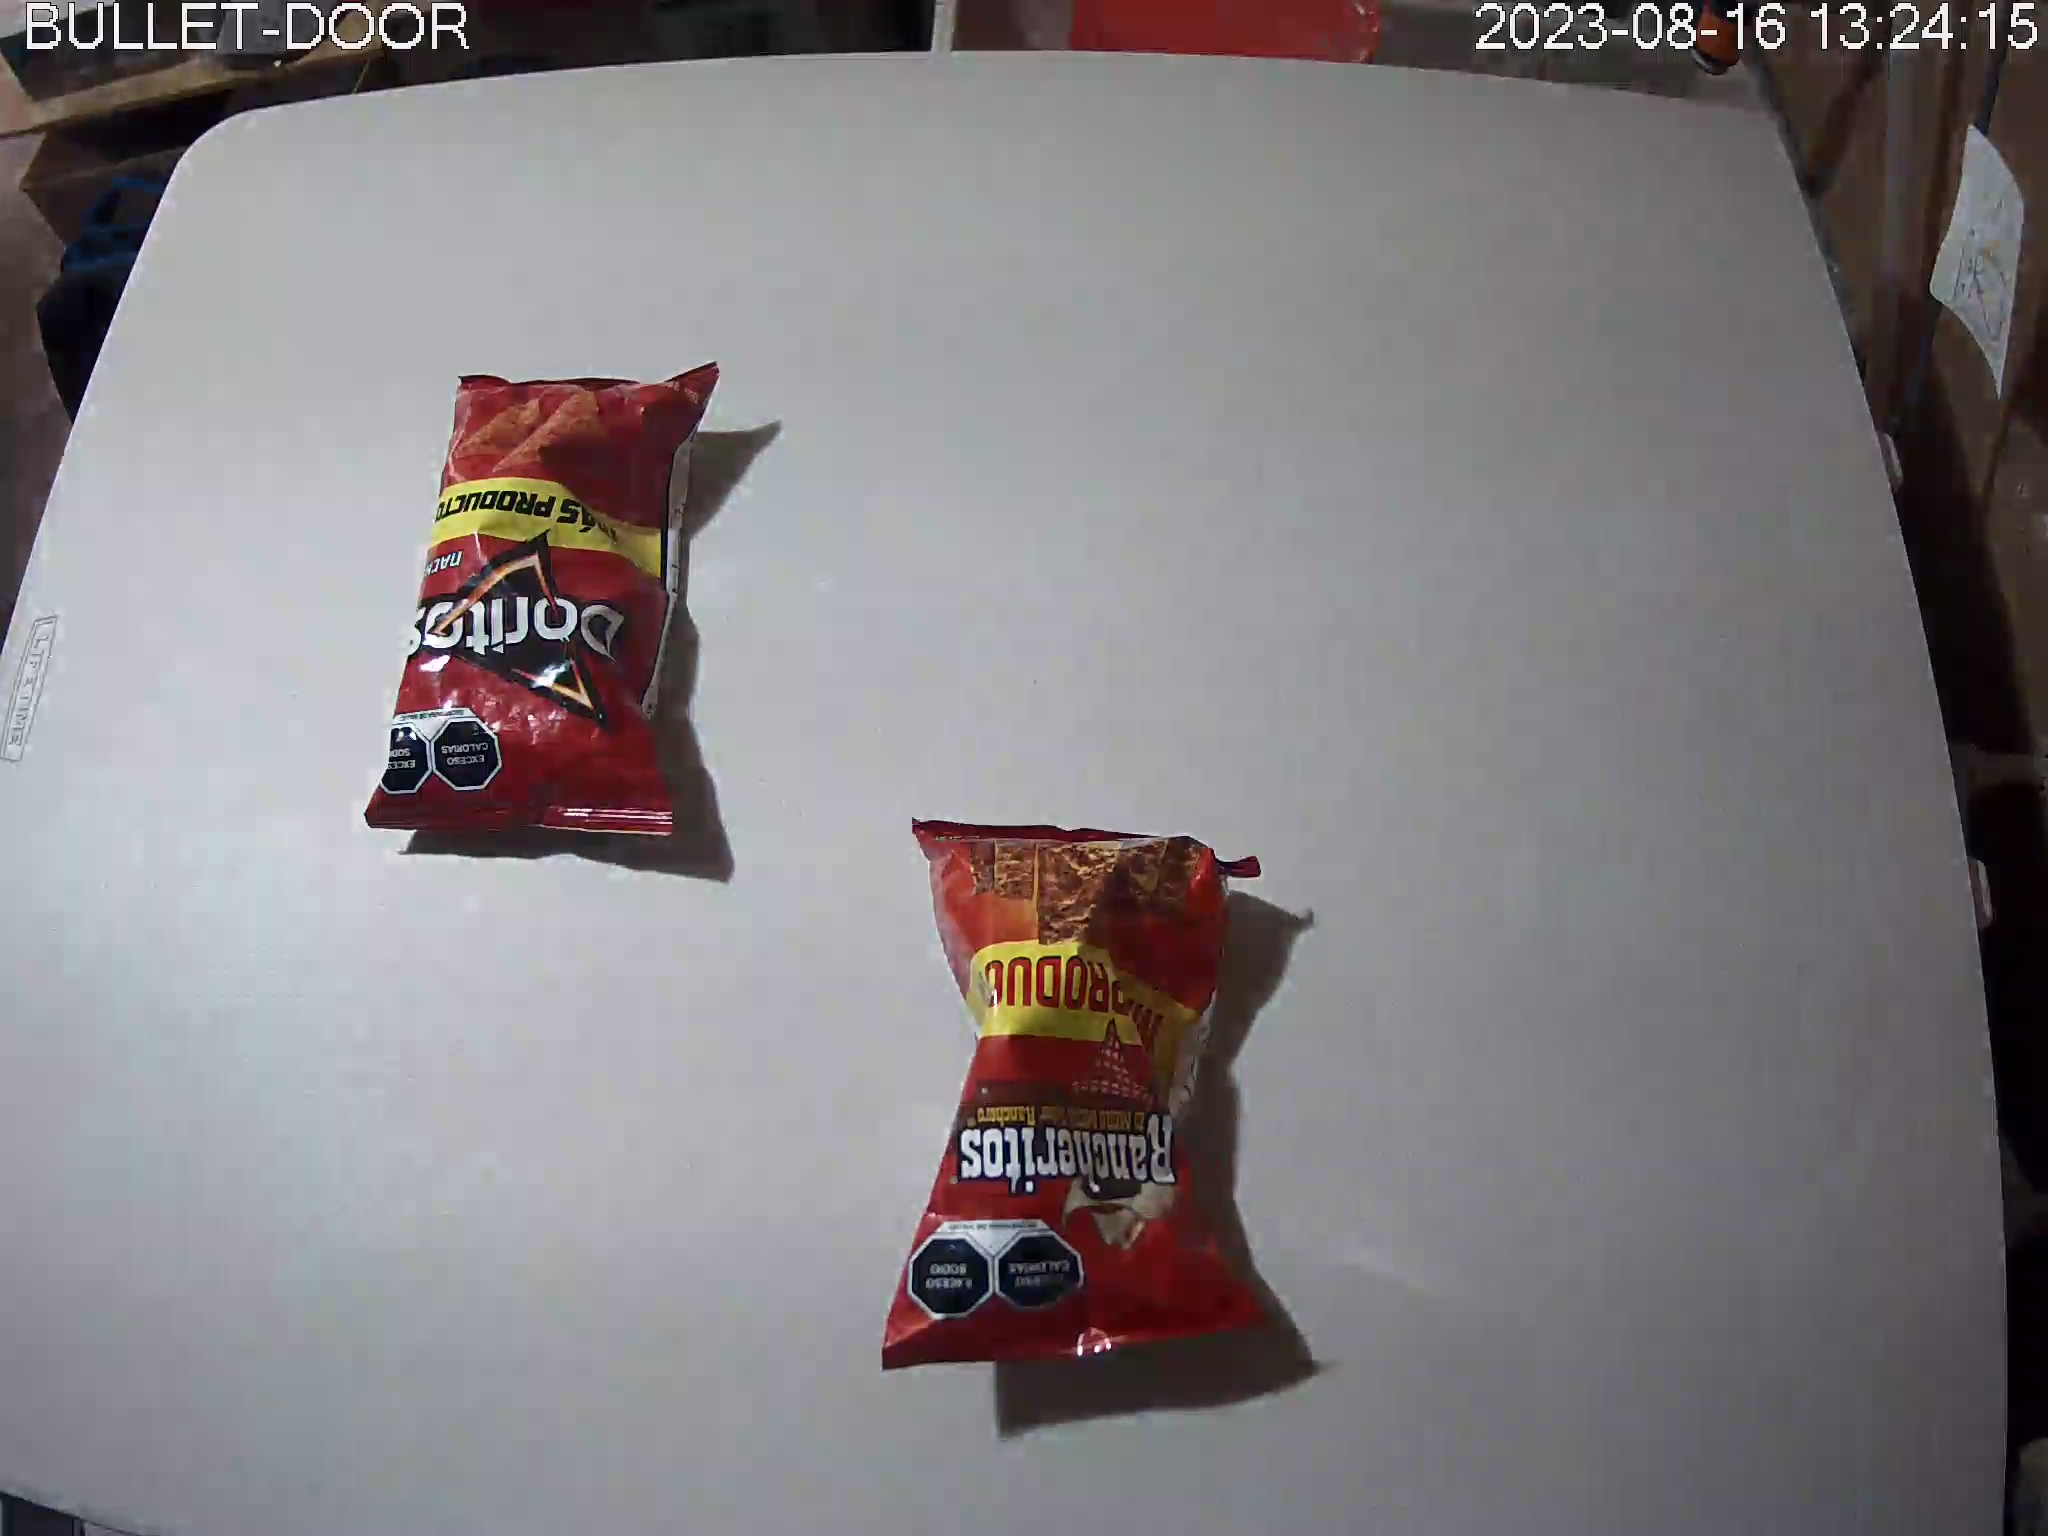DoritosN_61_F: (363, 363, 718, 839)
Rancheritos_58_F: (880, 818, 1284, 1375)
